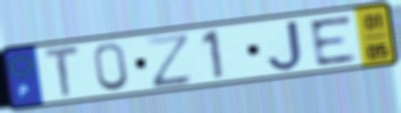0: (92, 42, 131, 93)
1: (200, 28, 227, 82)
E: (306, 13, 361, 68)
J: (265, 18, 307, 74)
T: (42, 43, 83, 101)
Z: (144, 30, 196, 90)
